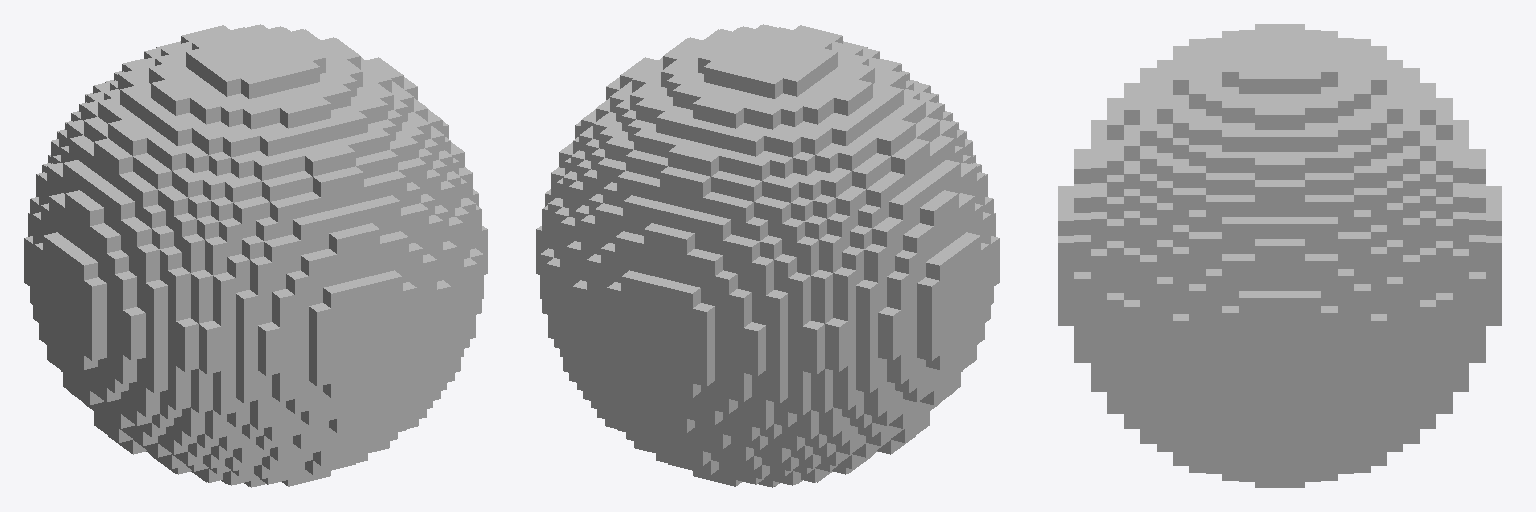
The model's file is FireShpere (1).obj.
3 renders of one model, left to right at view 1: azimuth 30°, elevation 25°; view 2: azimuth 150°, elevation 25°; view 3: azimuth 270°, elevation 25°, orthographic.
Visible parts, largest first — view 1: object 1; view 2: object 1; view 3: object 1.
Part boxes in pixels (x1,y1,x2,y2): object 1: (24, 24, 487, 487); object 1: (536, 24, 999, 487); object 1: (1058, 24, 1501, 487).
Size of the model in its own units: 2.7 by 2.7 by 2.7.